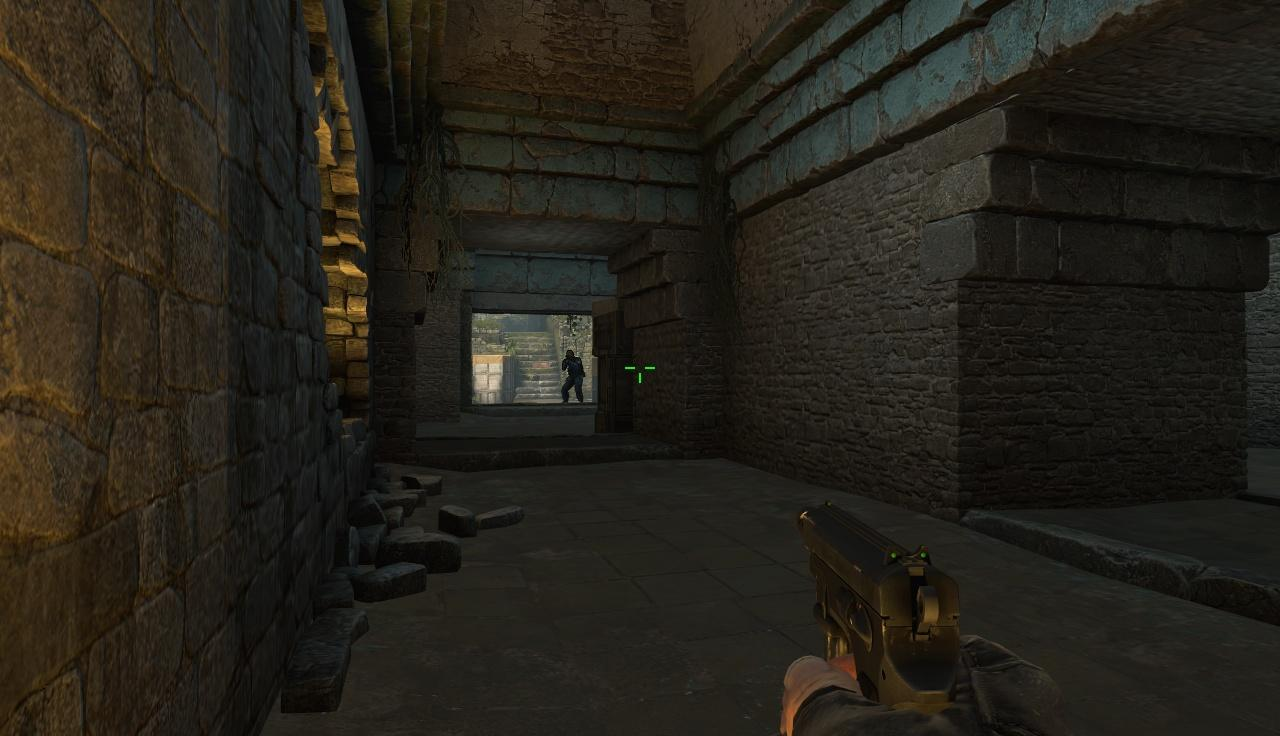ct: (563, 347, 584, 404)
cthead: (567, 349, 576, 361)
pistol: (787, 504, 1005, 736)
